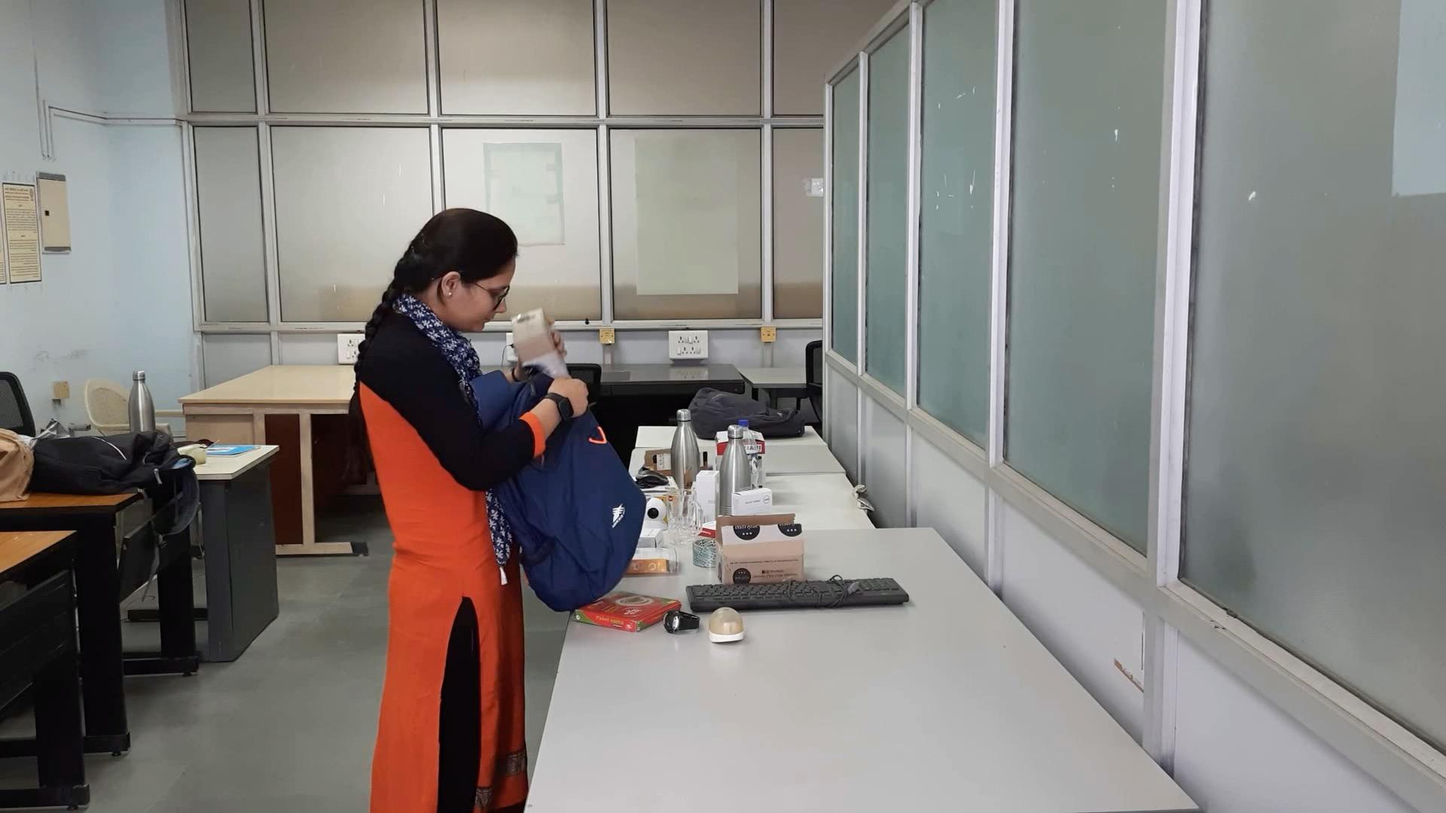shoplifting: (308, 302, 627, 491)
